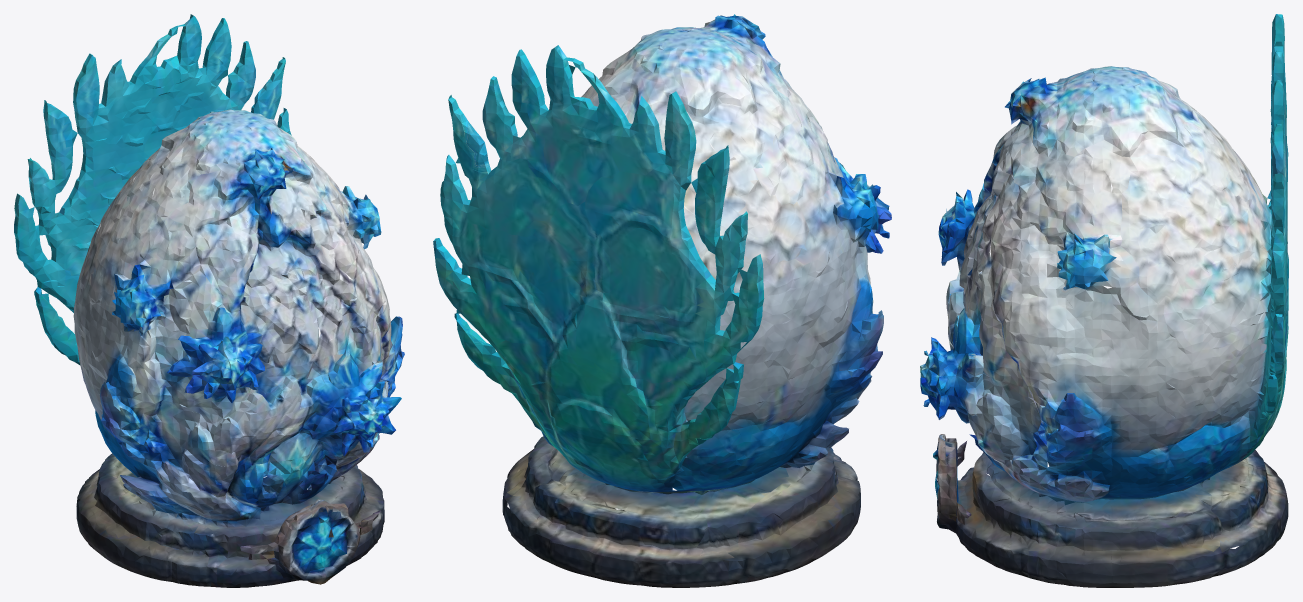
The model's file is ovo_lunaria.glb.
3 views of the same model, side by side, from view 1: azimuth 30°, elevation 25°; view 2: azimuth 150°, elevation 25°; view 3: azimuth 270°, elevation 25° (orthographic). The views are drawn at different scales.
Parts seen in each view (by area): view 1: plush; view 2: plush; view 3: plush.
Part boxes in pixels (x1=…): plush: x1=14, y1=14, x2=404, y2=587; plush: x1=433, y1=14, x2=891, y2=587; plush: x1=920, y1=14, x2=1288, y2=587.
Size of the model in its own units: 0.6697 by 0.9692 by 0.661.
Materials: 1 (1 with a texture image).
